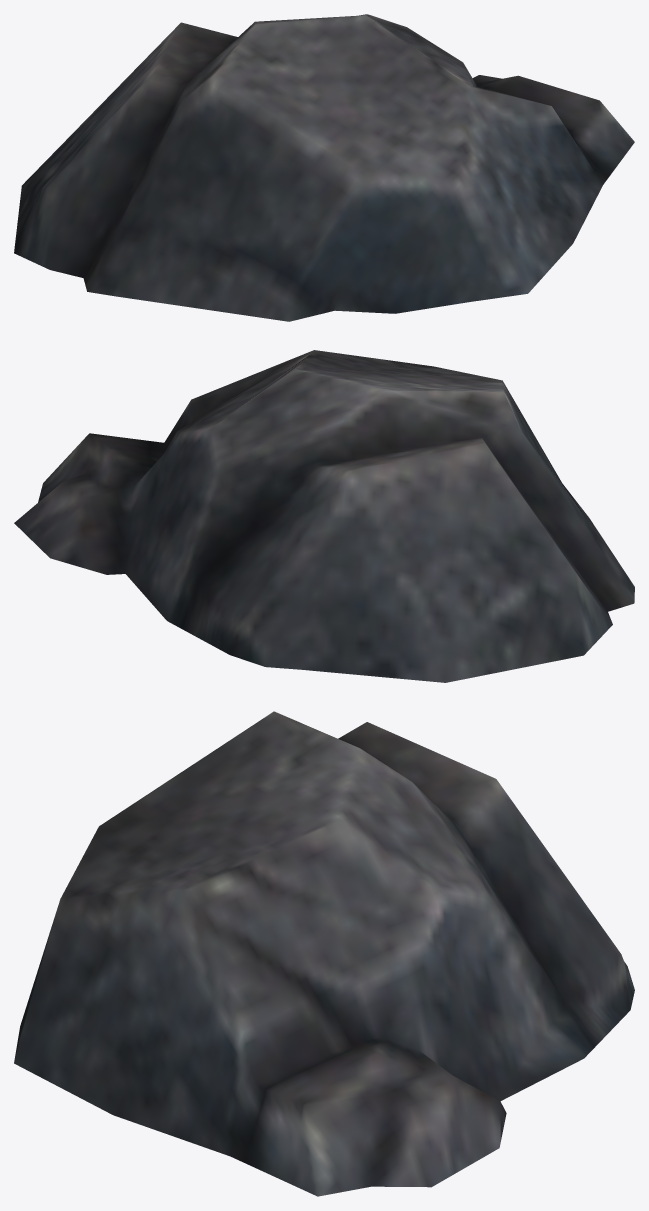
The model's file is GWZ_Stone_09.FBX.
3 views of the same model, one above another, from view 1: azimuth 30°, elevation 25°; view 2: azimuth 150°, elevation 25°; view 3: azimuth 270°, elevation 25° (orthographic). The views are drawn at different scales.
Parts seen in each view (by area): view 1: GWZ_Stone_09; view 2: GWZ_Stone_09; view 3: GWZ_Stone_09.
Part boxes in pixels (<box>): GWZ_Stone_09: <box>14,14,634,321</box>; GWZ_Stone_09: <box>14,350,634,682</box>; GWZ_Stone_09: <box>14,711,634,1196</box>.
Bounding box in the file's own units: 711 × 231 × 544.
